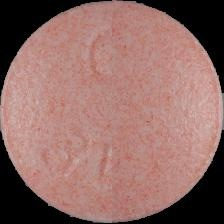0179-0187: (0, 0, 224, 224)
